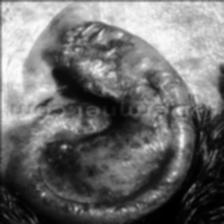Toxin: (56, 20, 176, 100)
